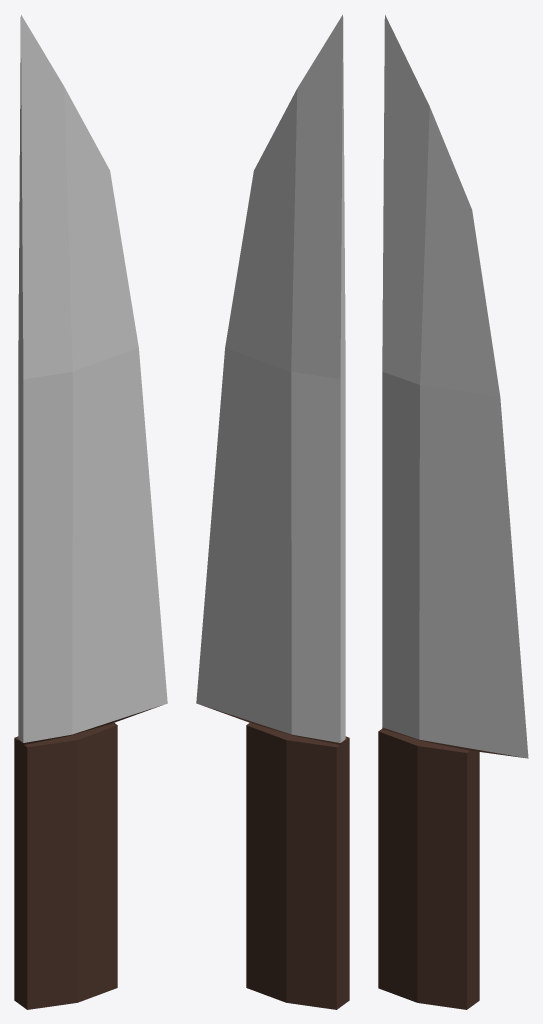
Rendered from Cuchillo.glb.
3 renders of one model, left to right at view 1: azimuth 30°, elevation 25°; view 2: azimuth 150°, elevation 25°; view 3: azimuth 330°, elevation 25°, orthographic. The views are drawn at different scales.
Parts seen in each view (by area): view 1: Cube; view 2: Cube; view 3: Cube.
Boxes of the visible parts, <box> form: Cube: <box>14,15,167,1009</box>; Cube: <box>196,15,349,1009</box>; Cube: <box>378,15,528,1009</box>.
Size of the model in its own units: 0.5147 by 3.32 by 0.1427.
